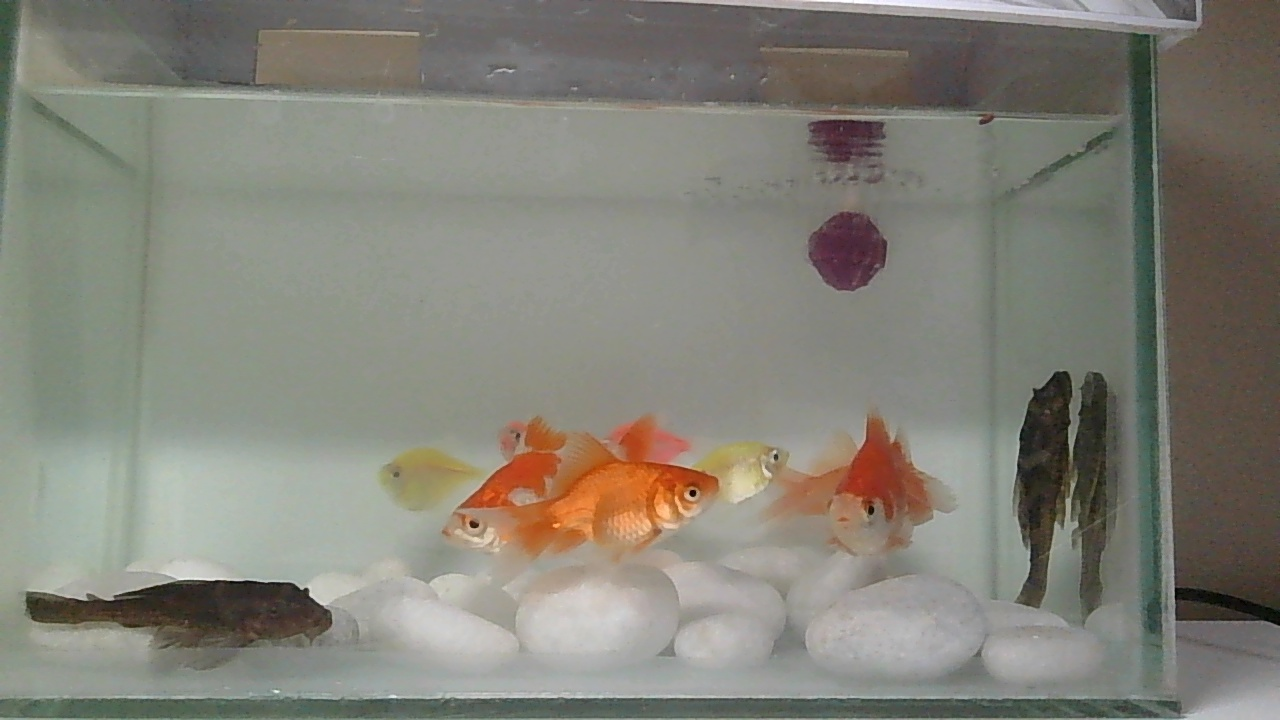fish: (445, 409, 726, 597), (822, 404, 957, 568), (375, 441, 492, 524), (804, 205, 891, 293)
